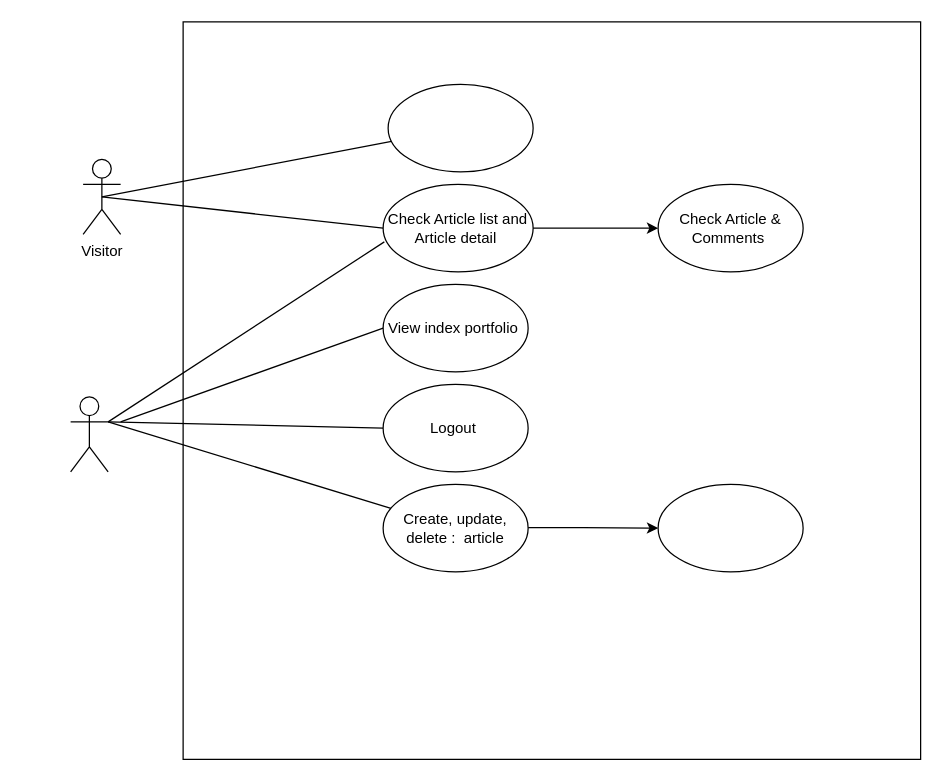
This 943x781 diagram has some shape labels left out. Here are the shapes that lost their labels. From the top down, the box of each, then its label:
(387, 83, 533, 172): Registering User
(69, 396, 108, 472): Authentificated User
(657, 483, 803, 572): Add Comments
